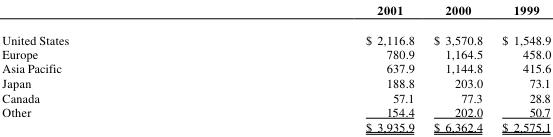table: (1, 0, 550, 134)
table column: (1, 0, 216, 134), (216, 0, 423, 134), (423, 0, 491, 134), (491, 0, 550, 134)
table column header: (1, 0, 550, 24)
table row: (1, 0, 550, 24), (1, 24, 550, 46), (1, 118, 550, 134), (1, 60, 550, 75), (1, 103, 550, 118), (1, 46, 550, 60), (1, 75, 550, 89), (1, 89, 550, 103)
